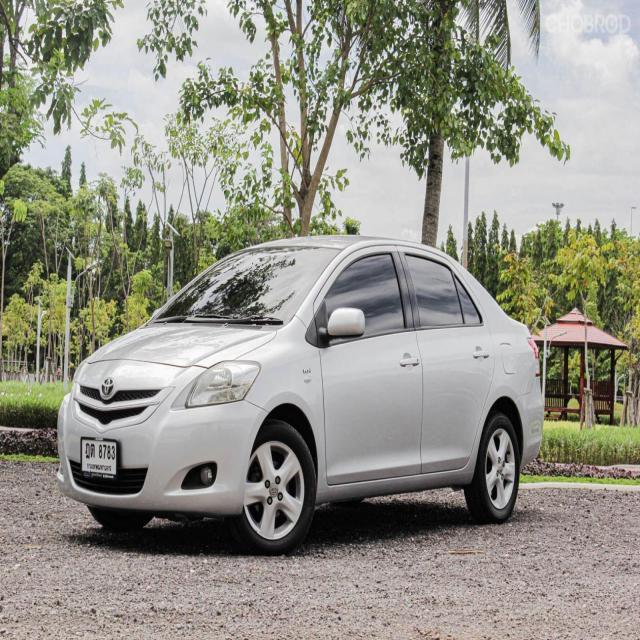license_plate: (80, 436, 121, 484)
